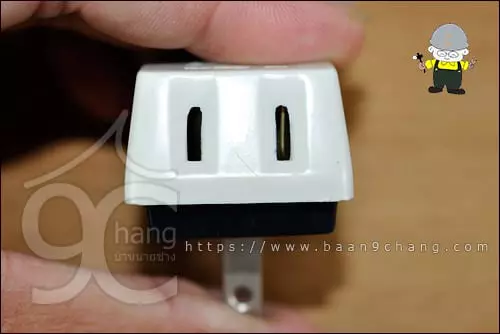Three_eye_plug: (113, 55, 356, 241)
